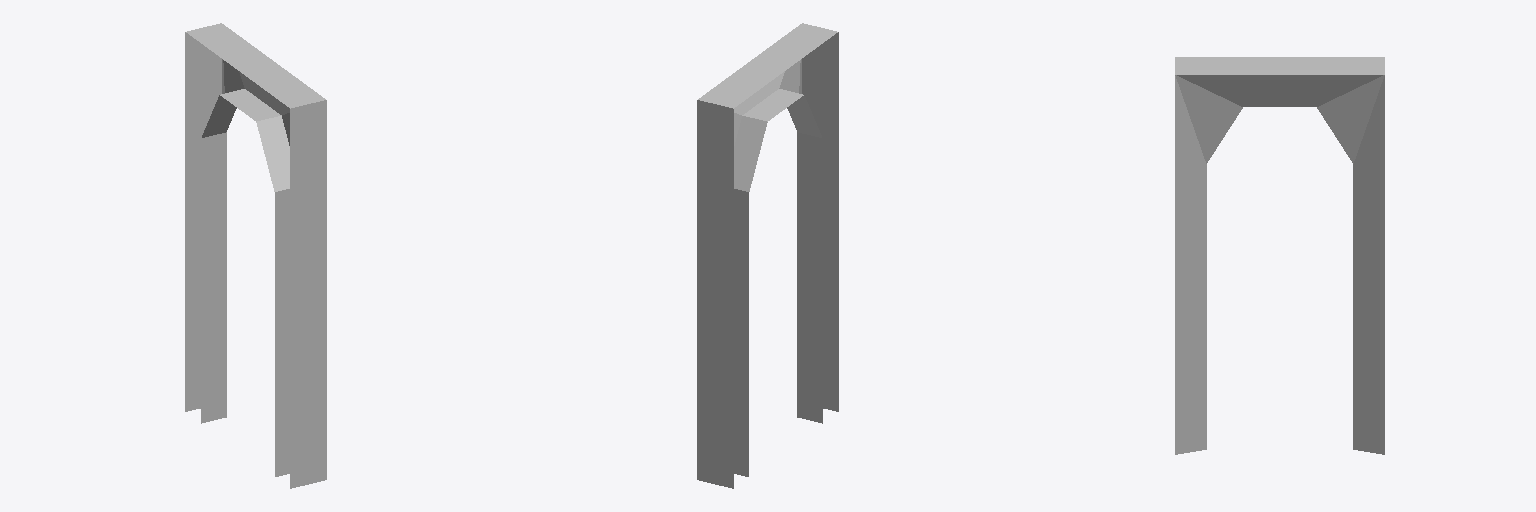
The model's file is door1frame.obj.
The picture shows the model from 3 angles: view 1: azimuth 30°, elevation 25°; view 2: azimuth 150°, elevation 25°; view 3: azimuth 270°, elevation 25°; orthographic projection.
Parts seen in each view (by area): view 1: Cube; view 2: Cube; view 3: Cube.
Part boxes in pixels (x1,y1,x2,y2): Cube: (185, 23, 326, 488); Cube: (697, 23, 838, 488); Cube: (1175, 57, 1384, 454).
Bounding box in the file's own units: 0.2 × 2 × 1.